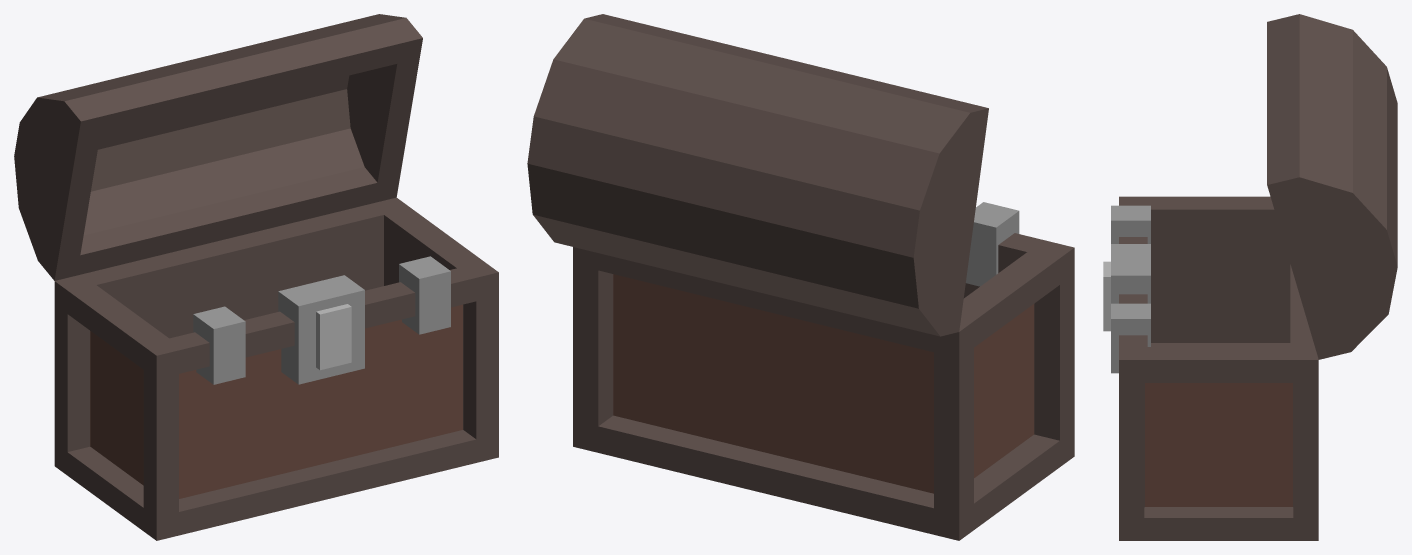
The model's file is Ship_012.fbx.
3 renders of one model, left to right at view 1: azimuth 30°, elevation 25°; view 2: azimuth 150°, elevation 25°; view 3: azimuth 270°, elevation 25°, orthographic. The views are drawn at different scales.
Parts seen in each view (by area): view 1: Ship_012; view 2: Ship_012; view 3: Ship_012.
Part boxes in pixels (x1,y1,x2,y2): Ship_012: (14,14,498,540); Ship_012: (527,14,1074,540); Ship_012: (1103,14,1397,540).
Size of the model in its own units: 110 by 84.14 by 115.
Materials: 1 (1 with a texture image).
